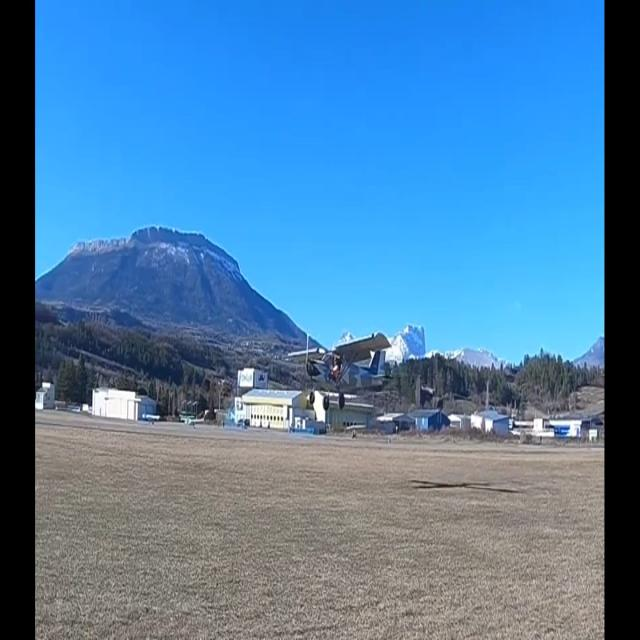iha: (320, 363, 362, 380)
